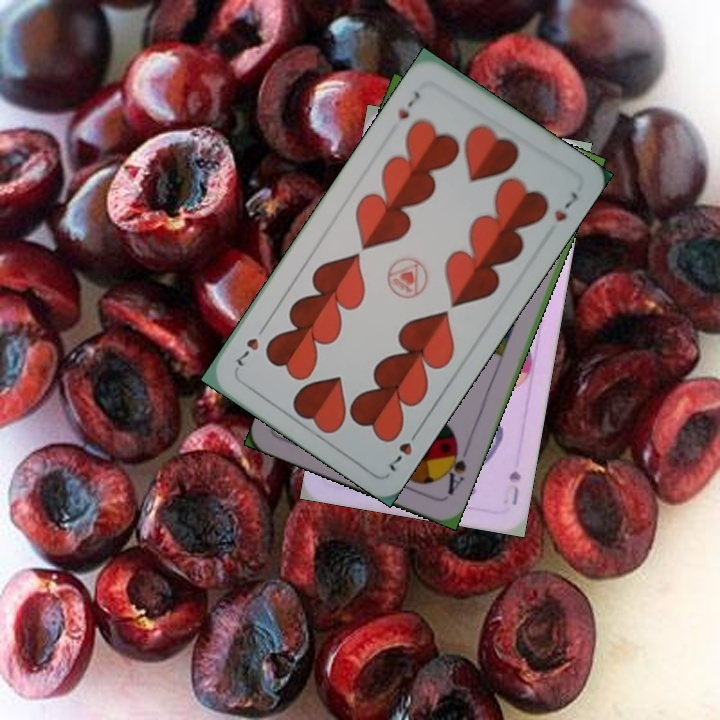H7: (385, 423, 423, 475), (394, 87, 424, 122)
SA: (438, 439, 469, 498)
SU: (505, 466, 524, 508)
